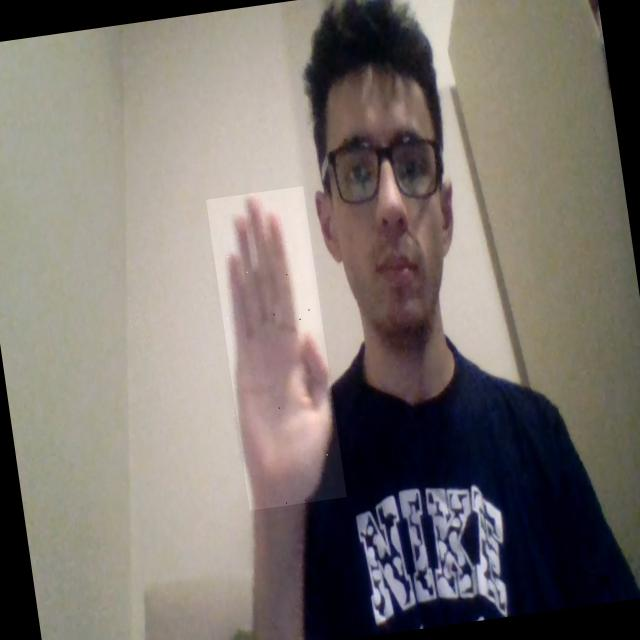hello: (206, 186, 347, 511)
